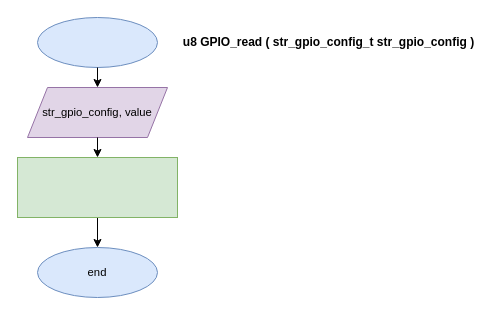
Some shapes in this 491 by 315 pixel diagram are drawn without their labels. The shapes that lost their labels are listed below. From the top down, each one's centre as x and y in pixels, then its label:
At point 97,42: "start".
At point 97,187: "return Get GPIODATA(port) bit".
